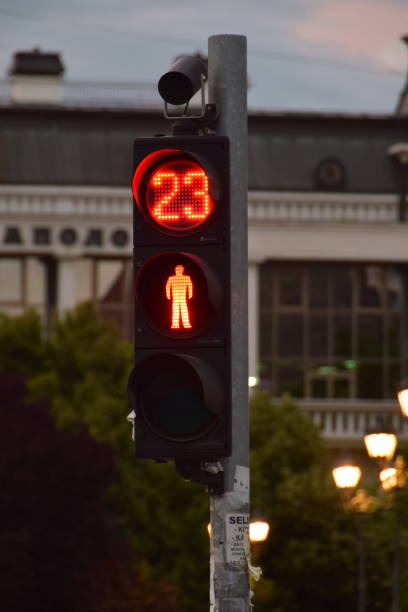trafficlight: (133, 137, 220, 466)
